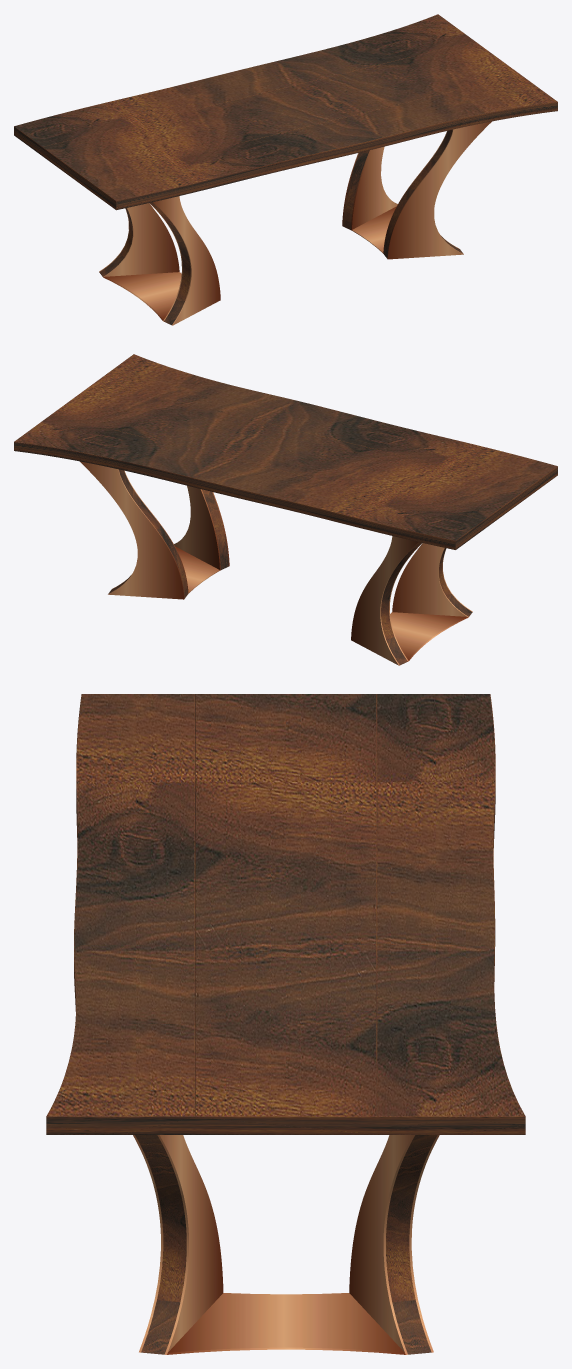
File: bovem.gltf
The picture shows the model from 3 angles, top to bottom: view 1: azimuth 30°, elevation 25°; view 2: azimuth 150°, elevation 25°; view 3: azimuth 270°, elevation 25°; orthographic projection. The views are drawn at different scales.
Visible parts, largest first — view 1: mesh_0; view 2: mesh_0; view 3: mesh_0.
Boxes of the visible parts, x1,y1,x2,y2 form: mesh_0: (14,14,557,325); mesh_0: (14,354,557,665); mesh_0: (46,694,525,1354).
Size of the model in its own units: 220 by 74 by 106.
Materials: 2 (2 with a texture image).
